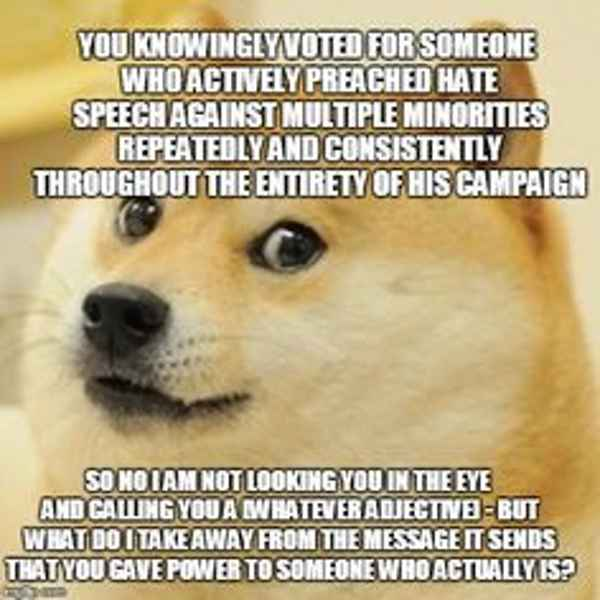doge: (61, 166, 401, 469)
